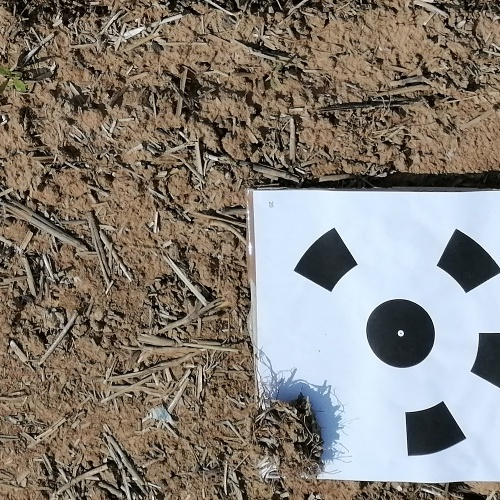beet: (0, 65, 29, 93)
